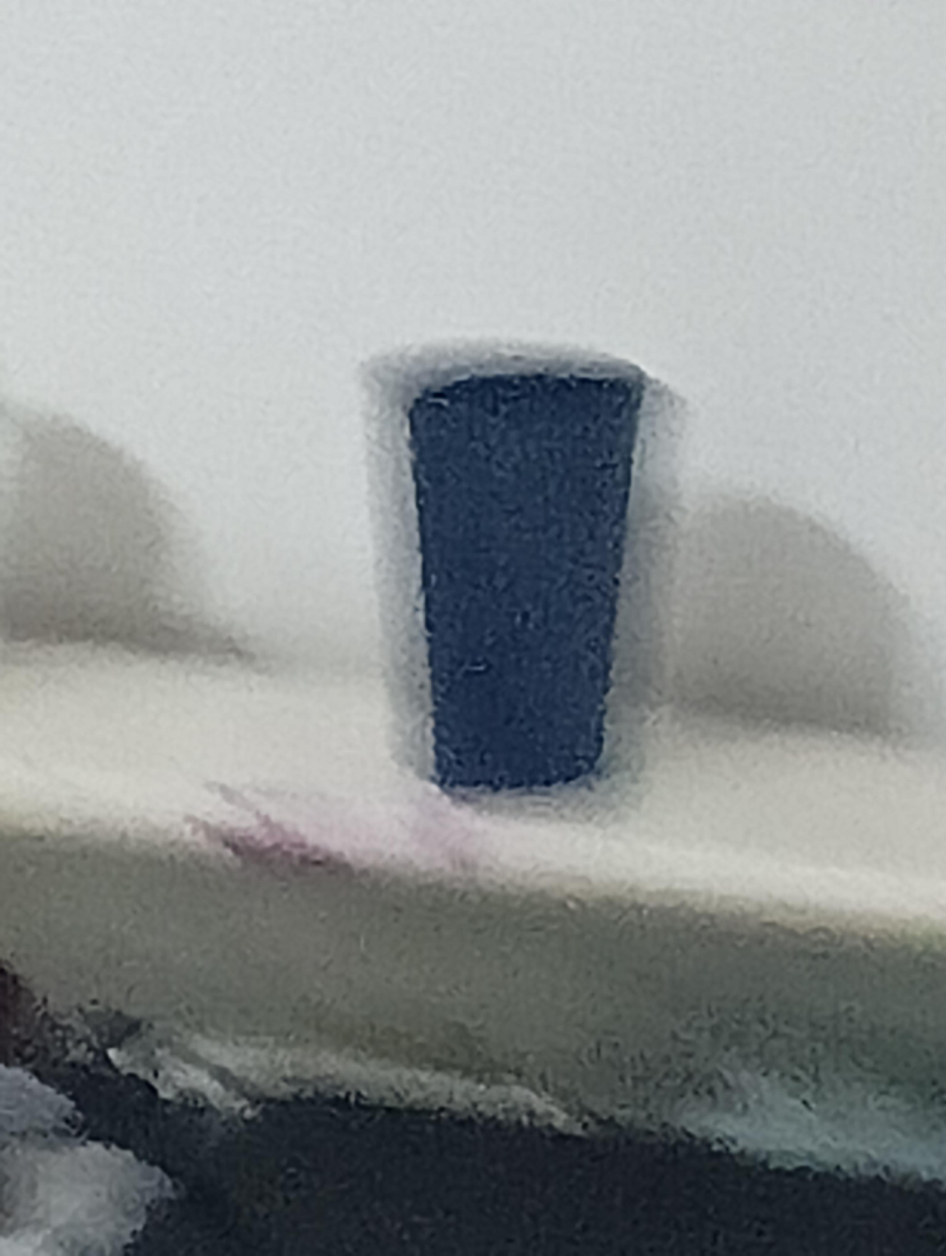cup: (407, 372, 642, 789)
